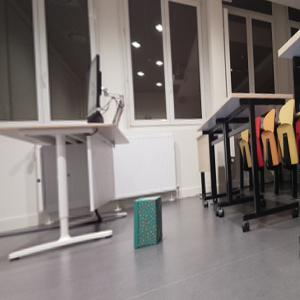small: (132, 195, 164, 248)
